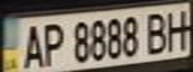8: (121, 12, 145, 59), (87, 16, 109, 62), (69, 17, 90, 64), (106, 15, 127, 60)
A: (18, 20, 48, 70)
B: (142, 9, 172, 55)
H: (163, 7, 193, 52)
P: (36, 19, 69, 69)
